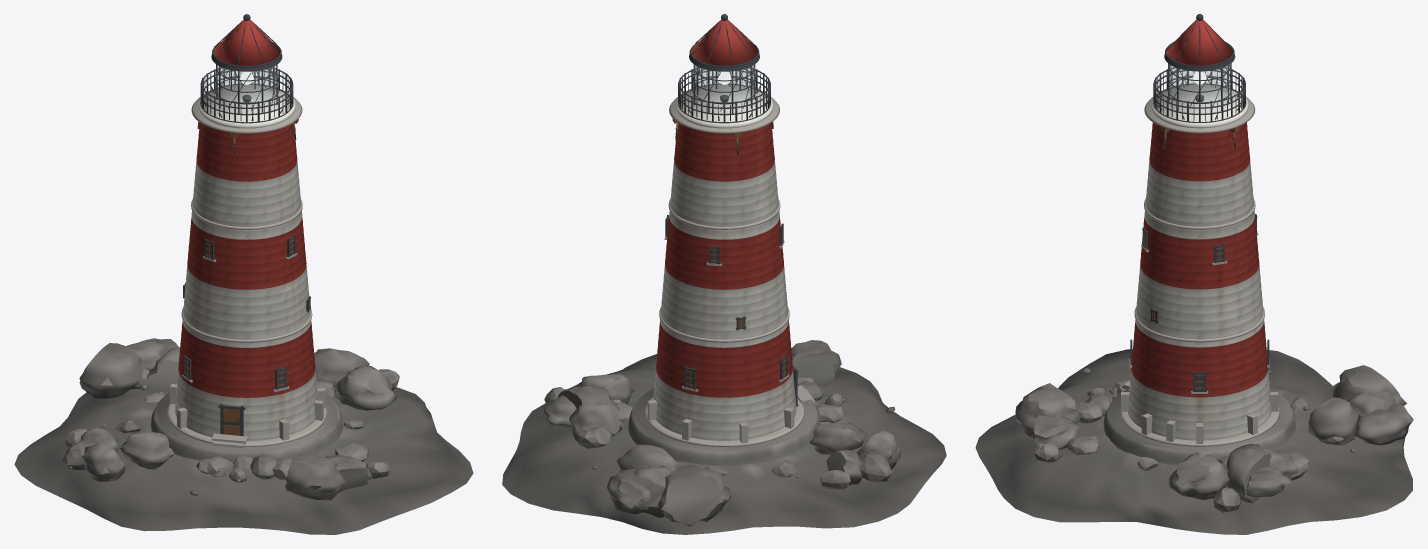
File: lighthouse-v2-lite.glb
3 renders of one model, left to right at view 1: azimuth 30°, elevation 25°; view 2: azimuth 150°, elevation 25°; view 3: azimuth 270°, elevation 25°, orthographic.
Parts seen in each view (by area): view 1: LH_Tower, T_RockShelf, T_RockClusters, LH_MetalDetail, LH_TrimDetail, LH_Base, LH_Gallery, LH_Roof, LH_LanternGlass, LH_RustDetail; view 2: LH_Tower, T_RockShelf, T_RockClusters, LH_MetalDetail, LH_Base, LH_TrimDetail, LH_Gallery, LH_Roof, LH_LanternGlass; view 3: LH_Tower, T_RockShelf, T_RockClusters, LH_TrimDetail, LH_MetalDetail, LH_Base, LH_Gallery, LH_Roof, LH_LanternGlass.
Part boxes in pixels (<box>): LH_Tower: <box>175,123,318,440</box>; T_RockShelf: <box>14,387,473,534</box>; T_RockClusters: <box>62,338,399,500</box>; LH_MetalDetail: <box>183,21,310,435</box>; LH_TrimDetail: <box>167,97,326,447</box>; LH_Base: <box>150,392,343,463</box>; LH_Gallery: <box>198,84,295,128</box>; LH_Roof: <box>214,19,279,65</box>; LH_LanternGlass: <box>215,65,278,113</box>; LH_RustDetail: <box>184,119,309,435</box>; LH_Tower: <box>653,122,796,440</box>; T_RockShelf: <box>502,354,946,534</box>; T_RockClusters: <box>543,340,901,526</box>; LH_MetalDetail: <box>665,21,798,406</box>; LH_Base: <box>628,388,820,465</box>; LH_TrimDetail: <box>644,97,815,446</box>; LH_Gallery: <box>676,84,772,128</box>; LH_Roof: <box>691,19,757,65</box>; LH_LanternGlass: <box>693,65,755,113</box>; LH_Tower: <box>1128,122,1271,440</box>; T_RockShelf: <box>975,349,1412,534</box>; T_RockClusters: <box>1015,354,1413,512</box>; LH_TrimDetail: <box>1119,96,1279,446</box>; LH_MetalDetail: <box>1130,21,1269,391</box>; LH_Base: <box>1103,388,1295,464</box>; LH_Gallery: <box>1151,84,1248,128</box>; LH_Roof: <box>1166,19,1232,65</box>; LH_LanternGlass: <box>1168,65,1230,112</box>.
Size of the model in its own units: 18.86 by 20.61 by 18.82.
